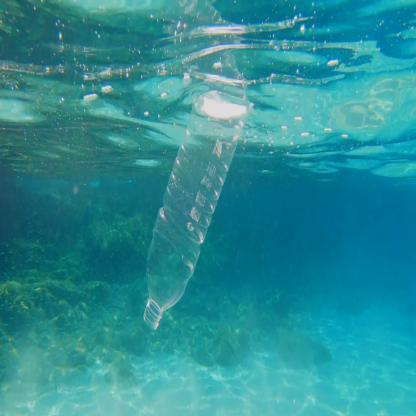Rác: (133, 77, 258, 317)
